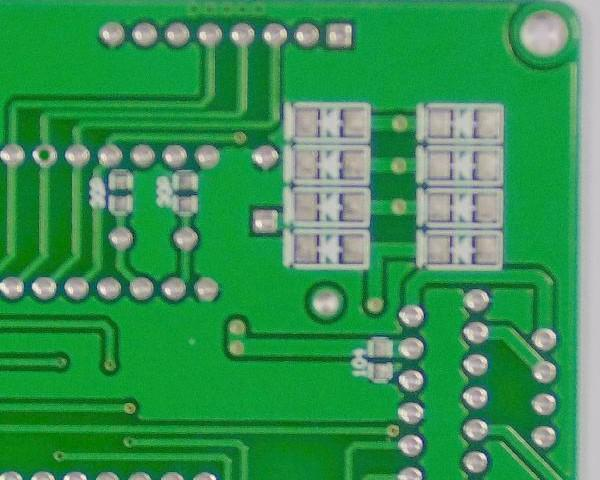missing hole: (28, 139, 62, 171)
